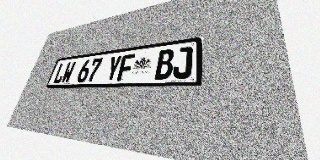6: (76, 59, 93, 83)
7: (86, 58, 103, 82)
B: (154, 48, 174, 80)
F: (117, 54, 135, 81)
J: (172, 46, 193, 79)
L: (52, 62, 68, 84)
W: (60, 61, 76, 83)
Y: (104, 55, 122, 82)
